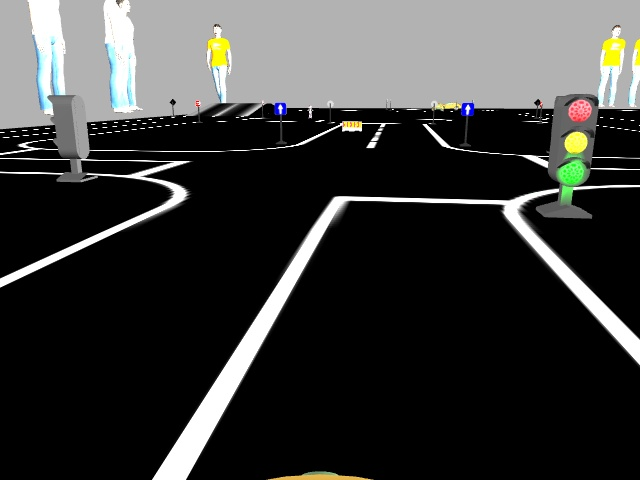ClosedRoadStand: (341, 121, 360, 132)
OneWay: (461, 102, 472, 114), (274, 103, 285, 115)
TrafficLight: (547, 93, 598, 185)
